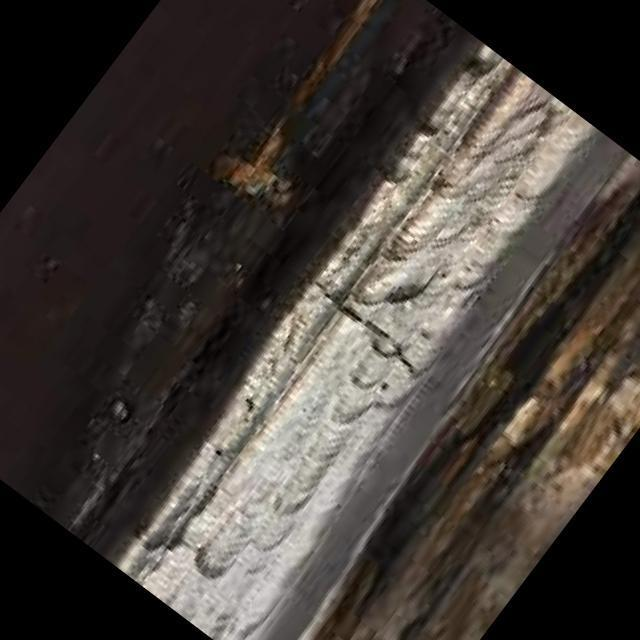defect: (310, 273, 418, 381)
